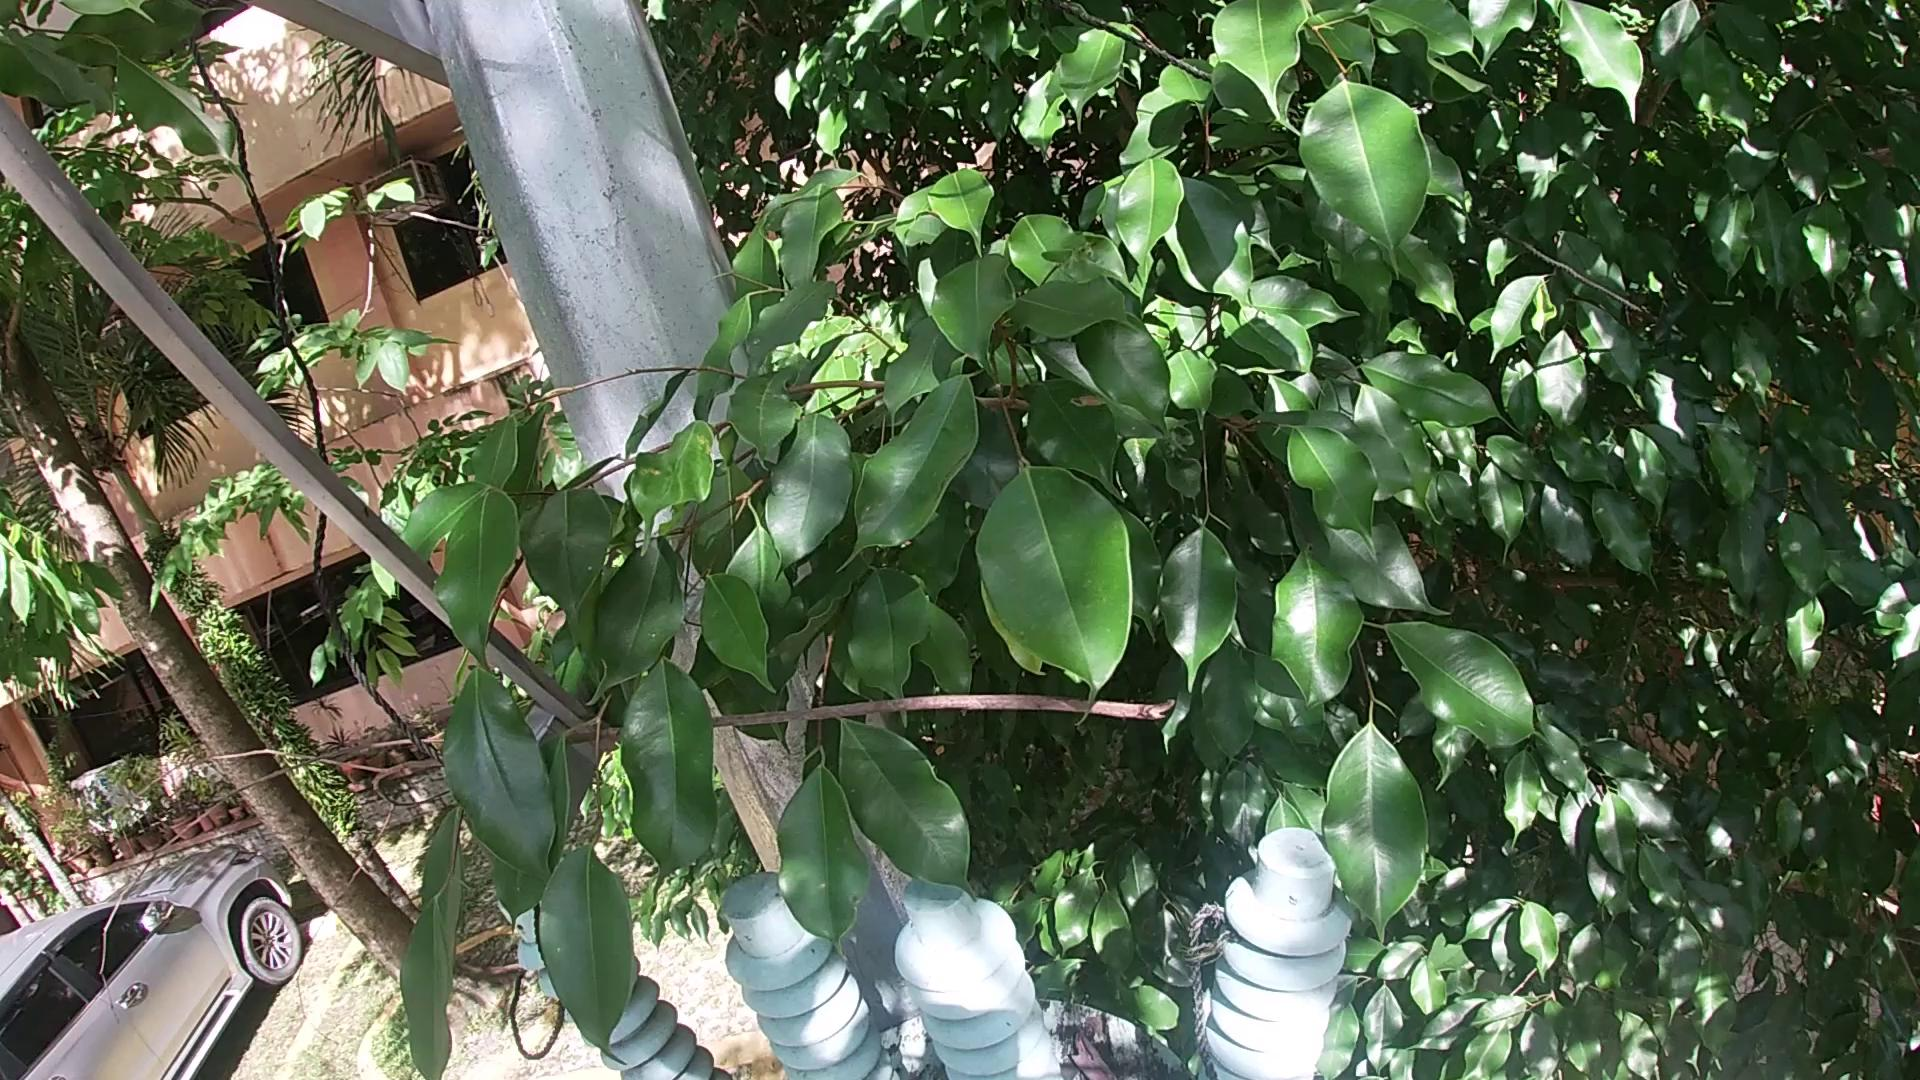tree branch: (1, 684, 1197, 988), (1069, 1014, 1110, 1080)
